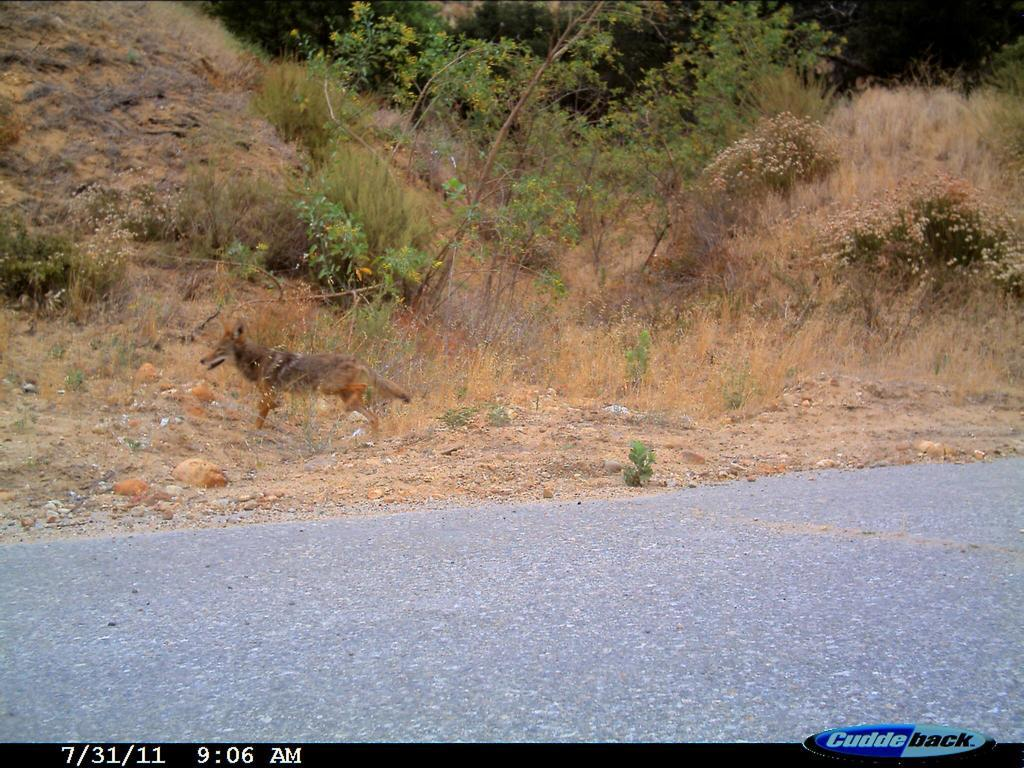coyote: (182, 310, 432, 446)
